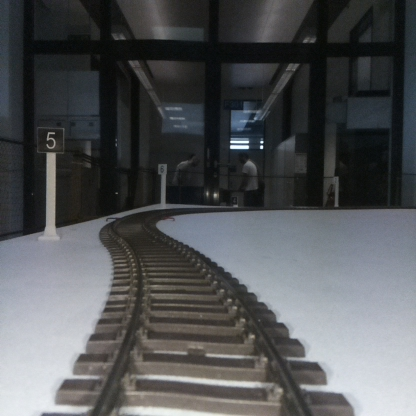black-info-5: (38, 127, 63, 239)
white-info-6: (158, 163, 167, 208)
